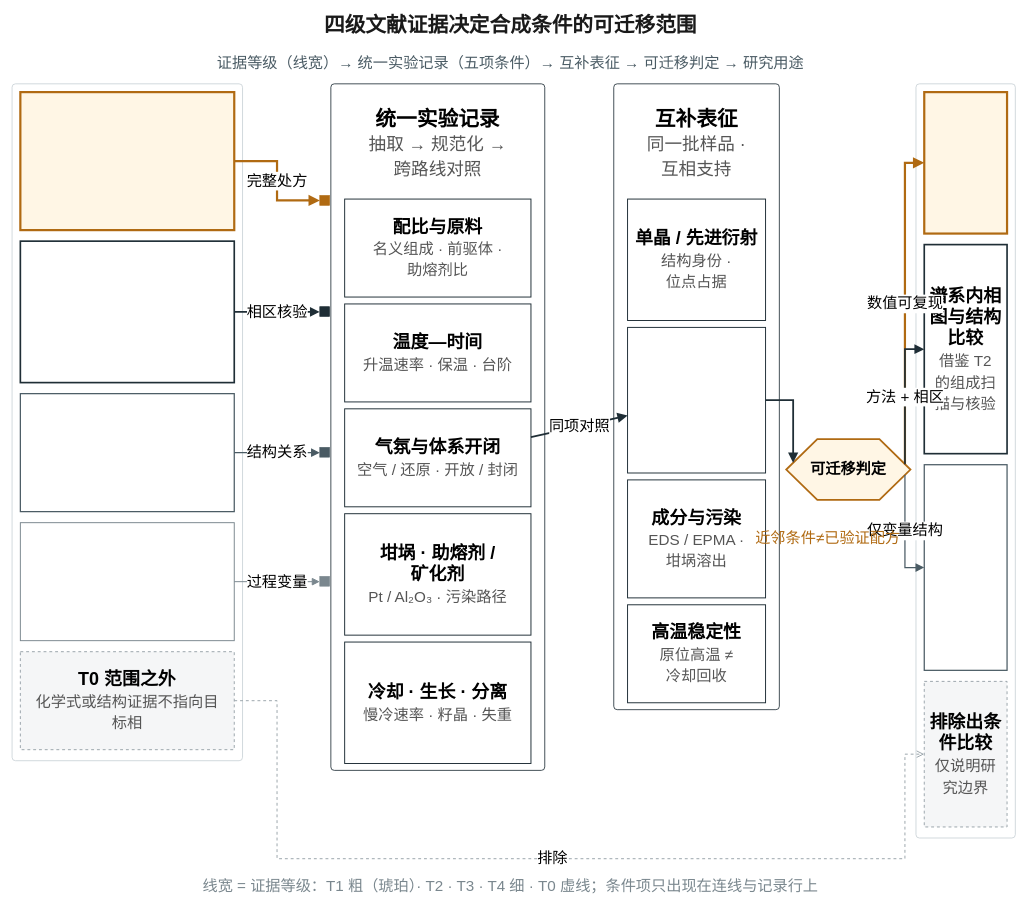
The diagram is 1028 pixels wide and 908 high, and some of its shapes have lost their labels. Here are the shapes that lost their labels. From the top down, the centre of each, then its label:
the point at 127,161: T1 目标相直接报道 Ba₅Y₁₂Zn[O(SiO₄)]₈：高温 溶液法 · Pt 坩埚 · 单晶结构；仅 1 篇
the point at 965,162: 直接条件 复现 只依据 T1 的原始处 方
the point at 127,311: T2 同一 Ba–Y 四方谱系 Ba5.2Y13Si8O41 等三次报道为同一相；相区 与结构核验可比
the point at 696,400: PXRD / Rietveld 批量相纯度 · 杂相
the point at 127,452: T3 晶体化学近邻 Ba–Zn–Si–O / Y–Si–O：结构关系、竞争相 、电荷平衡
the point at 127,581: T4 工艺近邻 固相 / 助熔 / 熔体 / 提拉：过程变量与表征方法
the point at 965,567: 方法与变 量结构 T3/T4 只给变量 与方法， 不移用数 值
